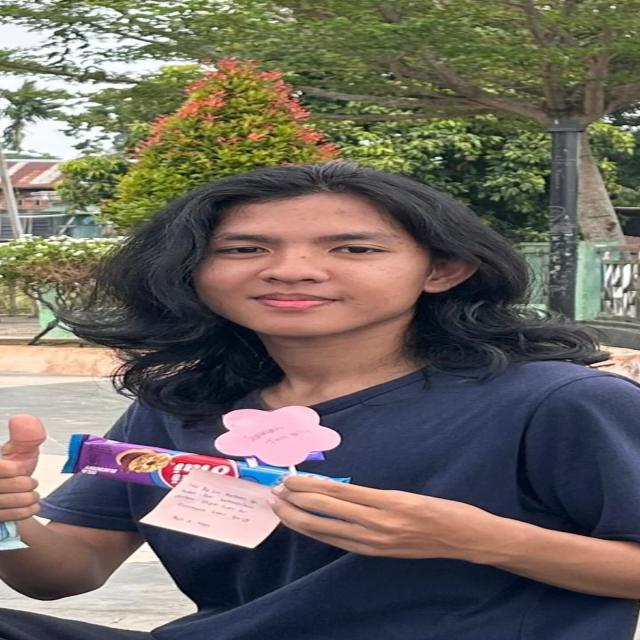sem_oculos: (151, 222, 501, 270)
